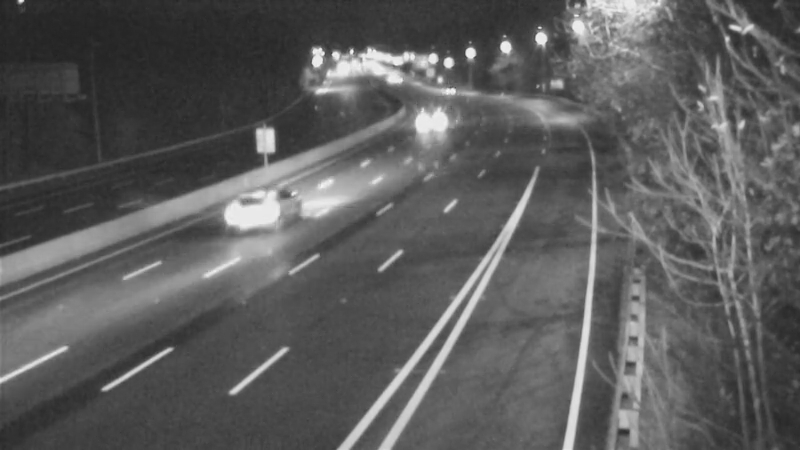vehicle: (222, 169, 302, 249), (416, 62, 466, 112), (405, 96, 455, 146)
